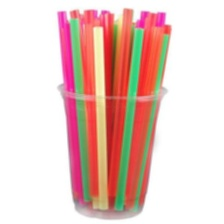drinking_straw: (90, 24, 113, 214)
glass: (51, 80, 174, 222)
